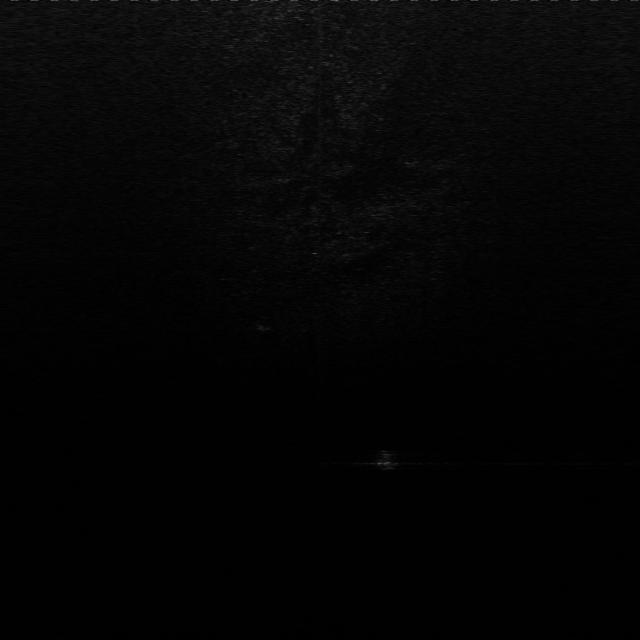ball: (250, 314, 278, 334)
circle cage: (363, 446, 413, 474)
